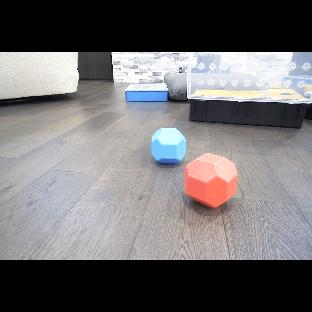V5_BLUE: (151, 128, 186, 164)
V5_RED: (186, 152, 239, 208)
